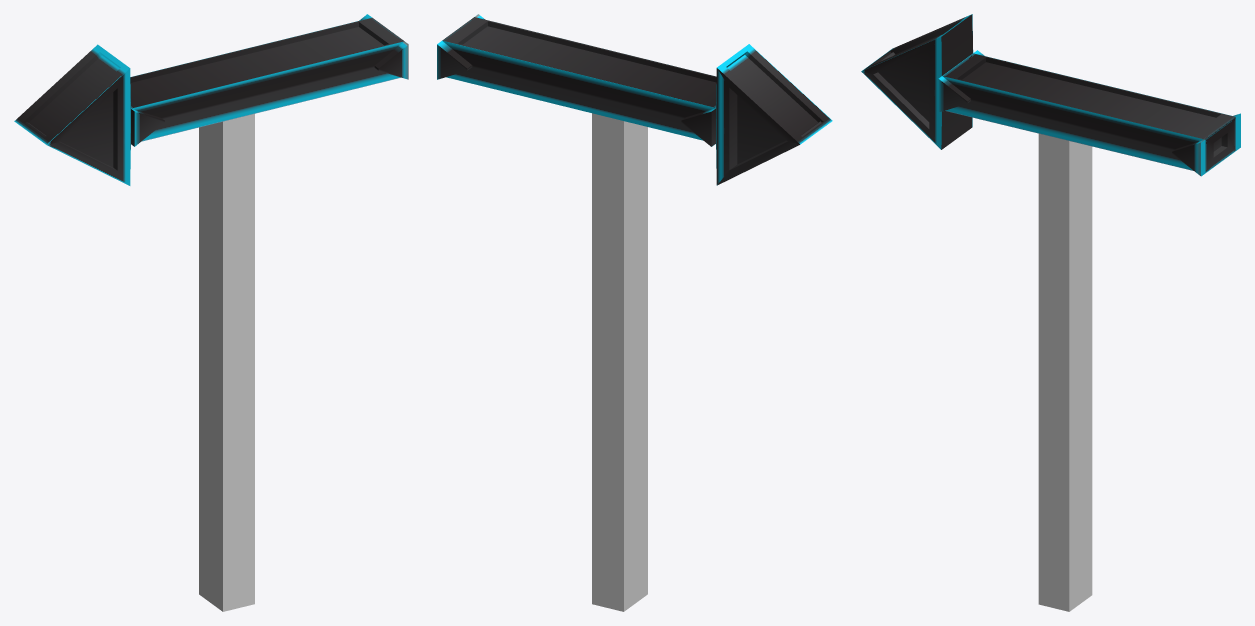
Rendered from Arrow.fbx.
3 views of the same model, side by side, from view 1: azimuth 30°, elevation 25°; view 2: azimuth 150°, elevation 25°; view 3: azimuth 330°, elevation 25° (orthographic). The views are drawn at different scales.
Visible parts, largest first — view 1: Cube.002, Cube.001; view 2: Cube.002, Cube.001; view 3: Cube.002, Cube.001.
Part boxes in pixels (x1,y1,x2,y2): Cube.002: (14, 14, 408, 185); Cube.001: (199, 114, 254, 611); Cube.002: (437, 14, 832, 185); Cube.001: (592, 113, 647, 611); Cube.002: (861, 14, 1240, 176); Cube.001: (1038, 133, 1092, 611).
Bounding box in the file's own units: 445 × 677 × 88.96.
